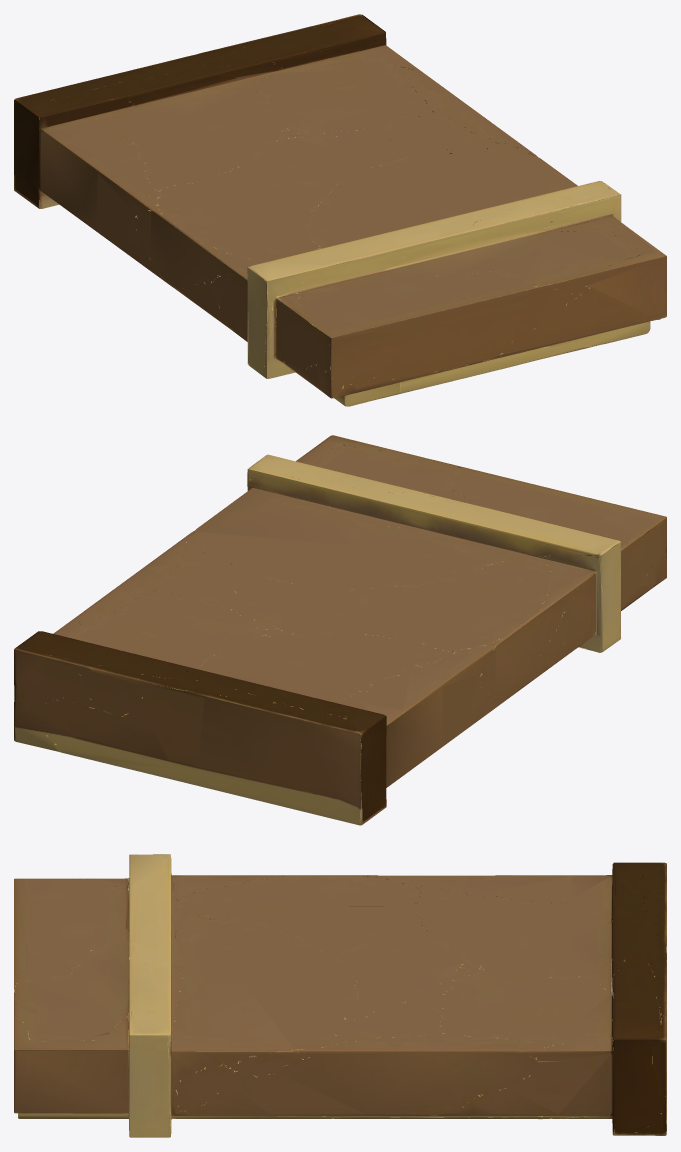
The model's file is ch05_public_works_ledger.glb.
3 views of the same model, one above another, from view 1: azimuth 30°, elevation 25°; view 2: azimuth 150°, elevation 25°; view 3: azimuth 270°, elevation 25° (orthographic). The views are drawn at different scales.
Visible parts, largest first — view 1: material; view 2: material; view 3: material.
Boxes of the visible parts, x1,y1,x2,y2 form: material: (14, 14, 666, 406); material: (14, 435, 666, 825); material: (14, 854, 666, 1137).
Bounding box in the file's own units: 0.6575 × 0.175 × 1.
Materials: 1 (1 with a texture image).
